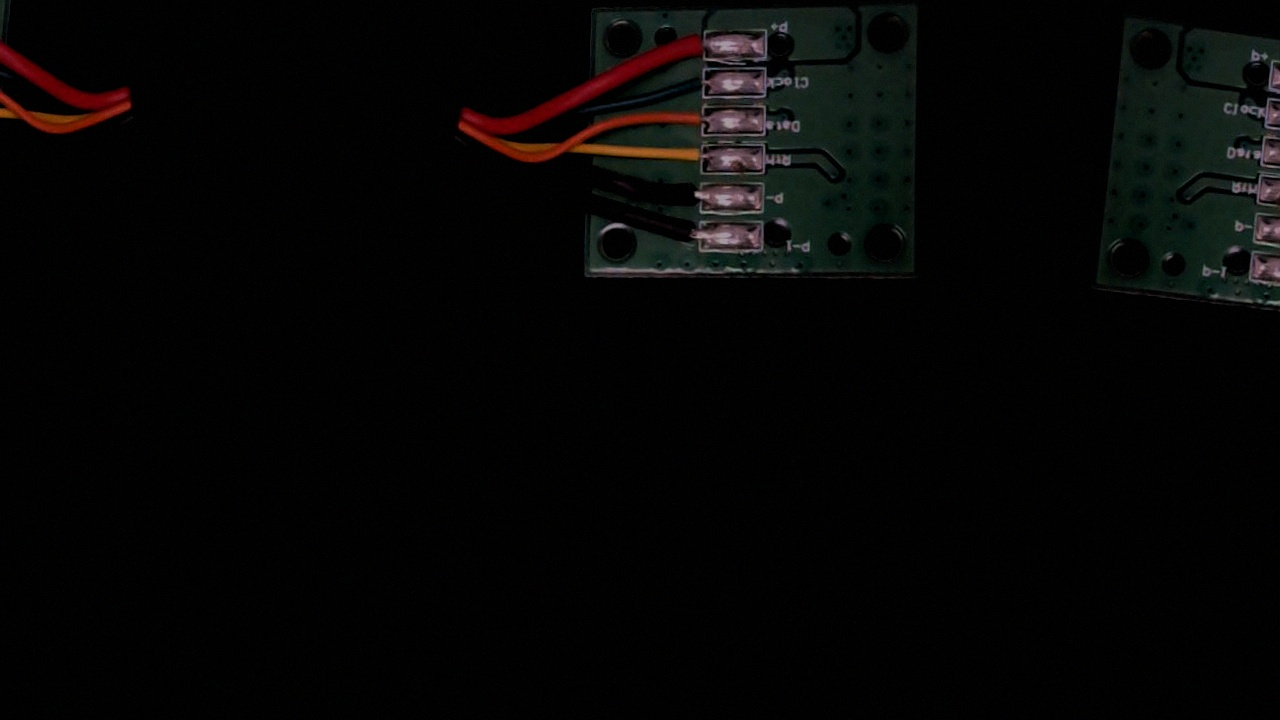Black: (647, 178, 715, 213)
Black1: (650, 216, 715, 252)
Green: (662, 64, 720, 100)
Orange: (669, 102, 717, 135)
Red: (656, 27, 717, 63)
Yellow: (654, 136, 718, 175)
